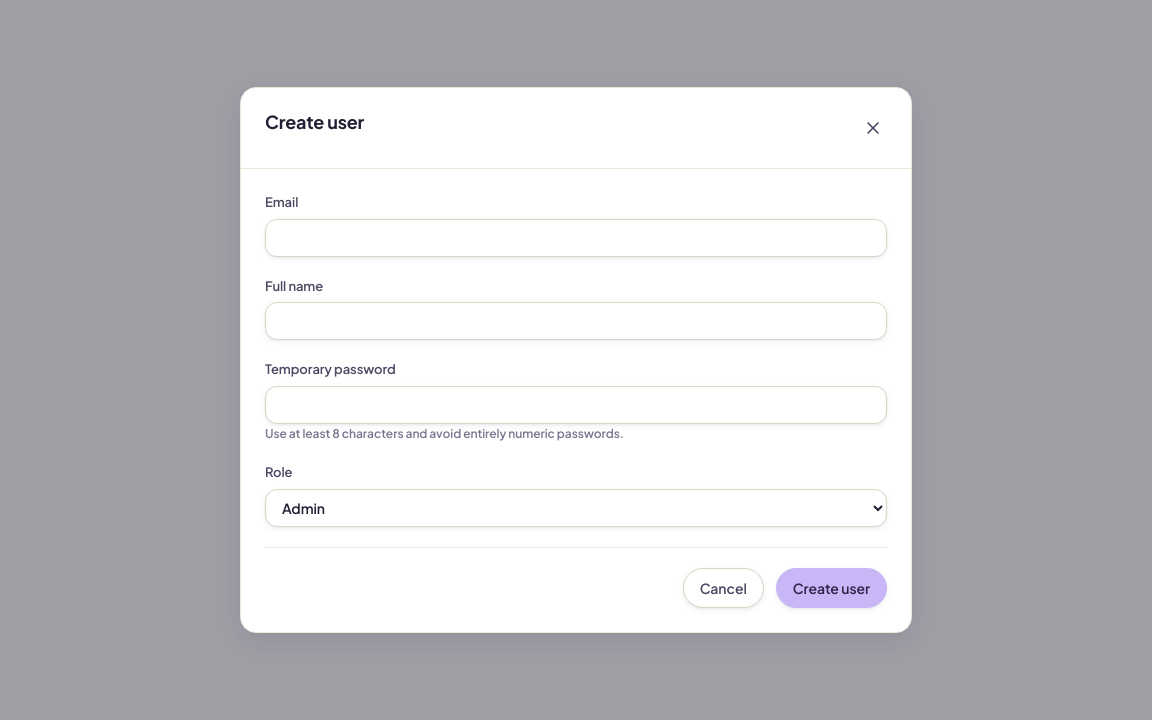
Scenario: CreateUserModal › for admin shows all roles and toggles the pharmacy picker
expect the field labelled "Pharmacy" is not shown: met
Step 1. Select "Pharmacist" in the dropdown labelled "Role" → {"x": 576, "y": 508}, box [265,489,887,527]
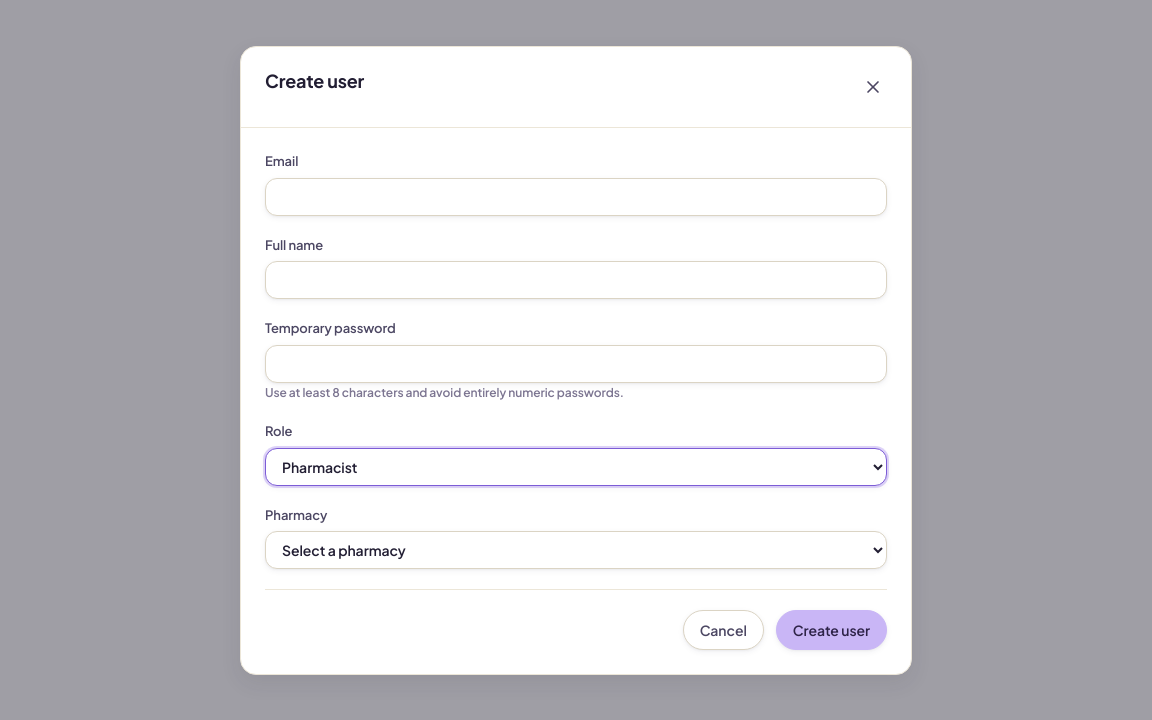
expect the dropdown labelled "Pharmacy" is shown: met, box [265,530,887,568]
Step 2. Select "Admin" in the dropdown labelled "Role" → {"x": 576, "y": 466}, box [265,447,887,485]
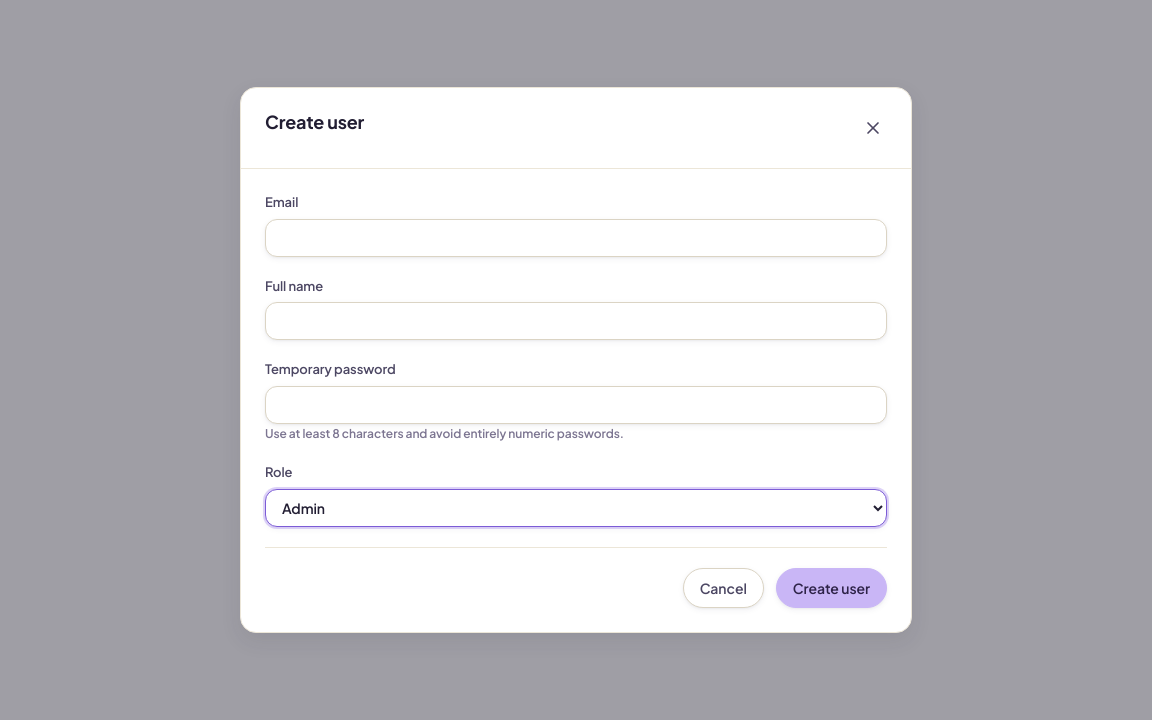
expect the label labelled "Pharmacy" is gone: met
